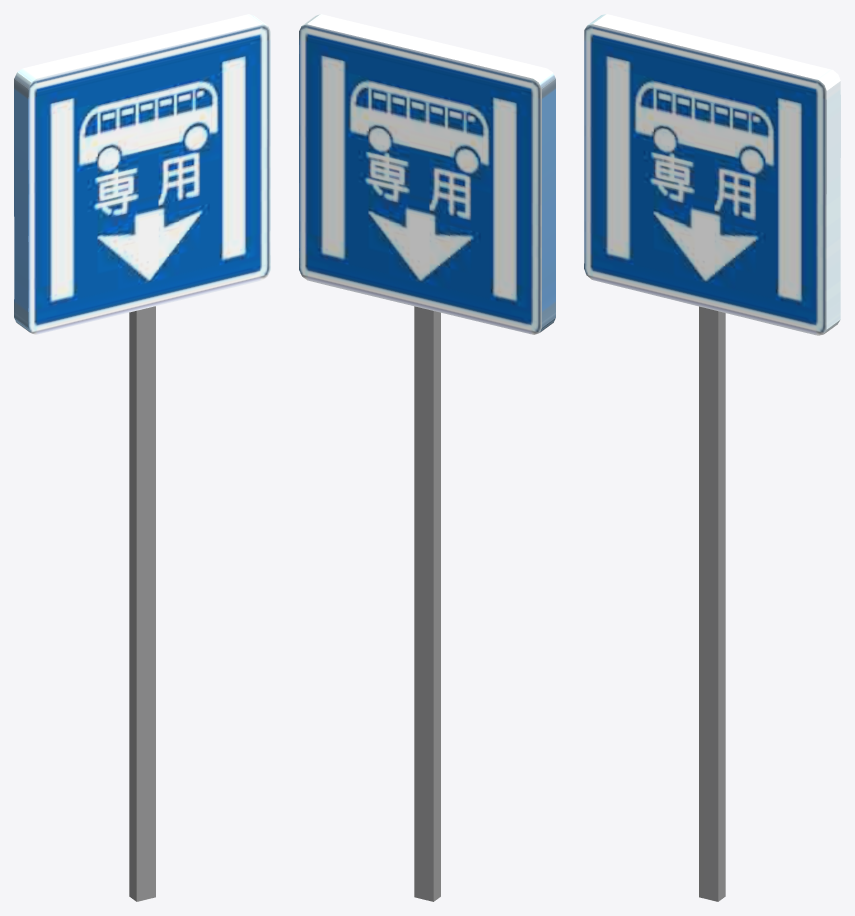
3 renders of one model, left to right at view 1: azimuth 30°, elevation 25°; view 2: azimuth 150°, elevation 25°; view 3: azimuth 330°, elevation 25°, orthographic.
Parts seen in each view (by area): view 1: AsianBlueSign.001; view 2: AsianBlueSign.001; view 3: AsianBlueSign.001.
Part boxes in pixels (box(x1,y1,x2,y2)): AsianBlueSign.001: box(14, 14, 270, 901); AsianBlueSign.001: box(299, 14, 555, 901); AsianBlueSign.001: box(584, 14, 840, 901).
Size of what is drawn, in the model's own units: 0.6092 by 2.04 by 0.0608.
2 materials, 2 textured.
